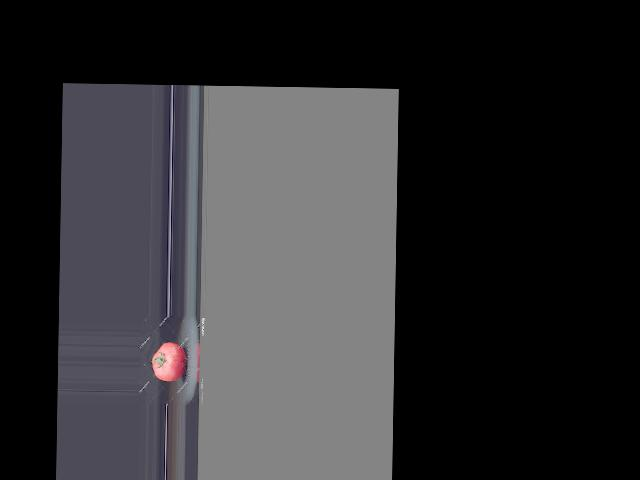tomato: (151, 342, 186, 382)
